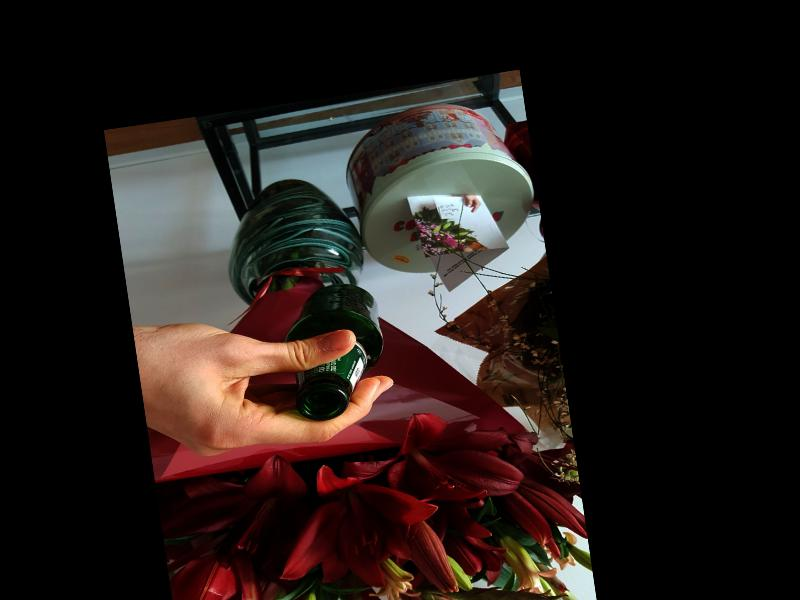Beer: (277, 279, 393, 424)
